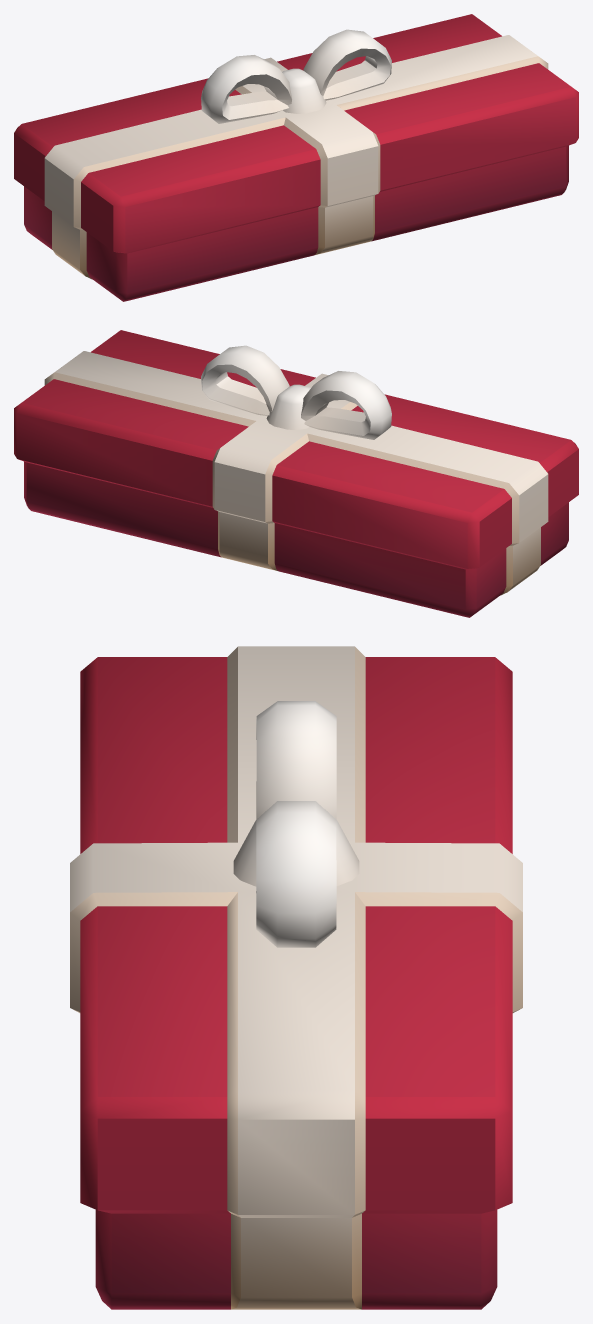
The model's file is present_E_red.glb.
The picture shows the model from 3 angles, top to bottom: view 1: azimuth 30°, elevation 25°; view 2: azimuth 150°, elevation 25°; view 3: azimuth 270°, elevation 25°; orthographic projection. The views are drawn at different scales.
Visible parts, largest first — view 1: present_E_red; view 2: present_E_red; view 3: present_E_red.
Part boxes in pixels (bbox=[...]): present_E_red: bbox=[14, 14, 578, 301]; present_E_red: bbox=[14, 330, 578, 617]; present_E_red: bbox=[70, 646, 522, 1309].
Bounding box in the file's own units: 1.36 × 0.4617 × 0.5638.
Materials: 1 (1 with a texture image).
